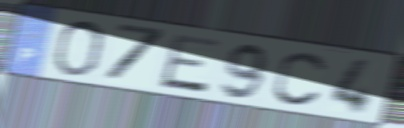4: (328, 55, 376, 118)
7: (105, 21, 169, 87)
9: (220, 42, 270, 101)
C: (271, 49, 332, 108)
E: (156, 32, 224, 96)
O: (50, 19, 108, 78)
